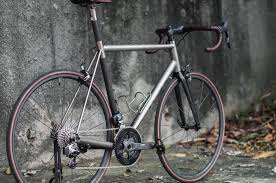bicycle: (7, 4, 234, 183)
